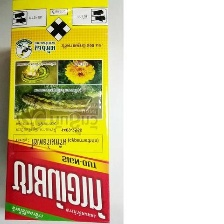carton: (2, 0, 113, 223)
